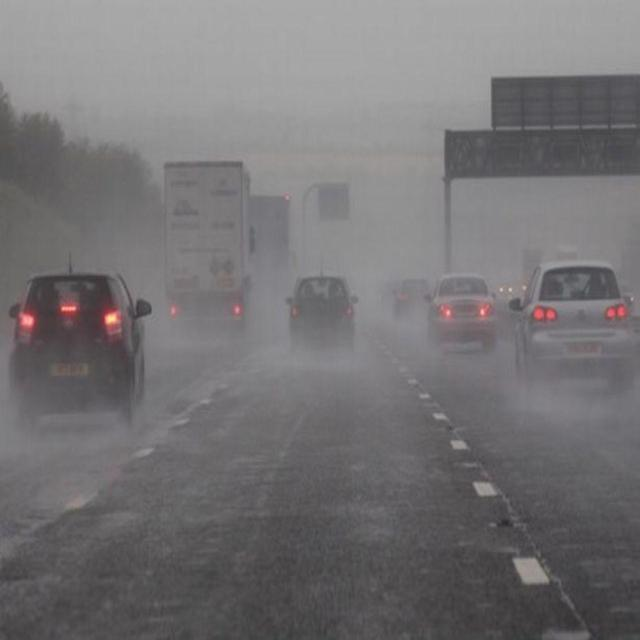Car: (7, 262, 152, 431), (508, 261, 637, 395), (284, 272, 358, 353), (425, 272, 499, 349), (391, 276, 429, 322)
Truck: (162, 152, 258, 336)
